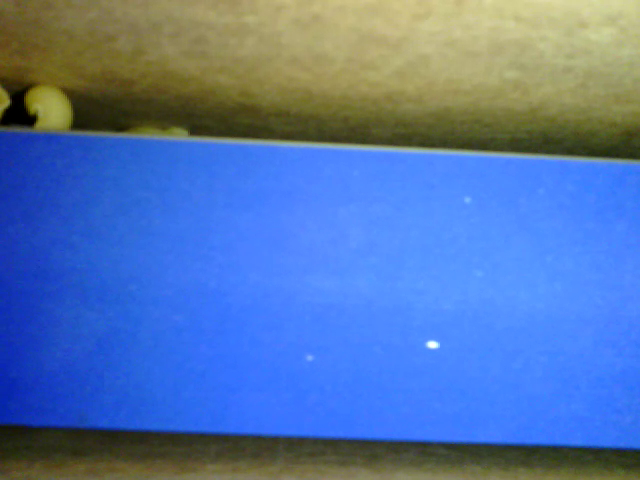shell: (23, 85, 76, 136)
